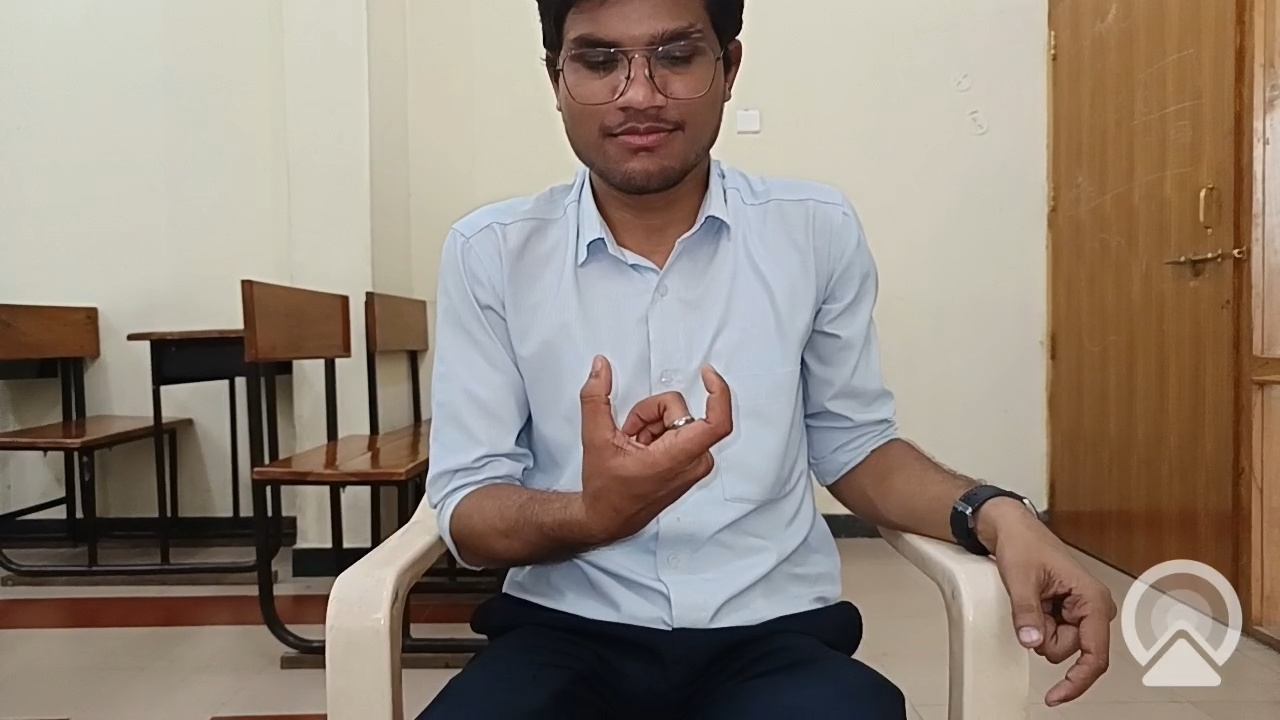U: (486, 305, 782, 590)
